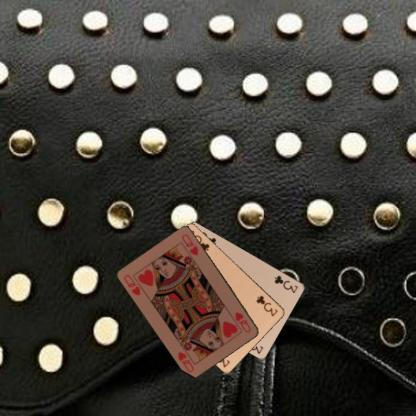3c: (254, 293, 279, 318), (272, 273, 299, 294)
Qh: (121, 272, 142, 297), (232, 309, 252, 334)
